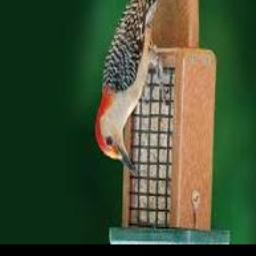Woodpecker: (96, 0, 183, 176)
